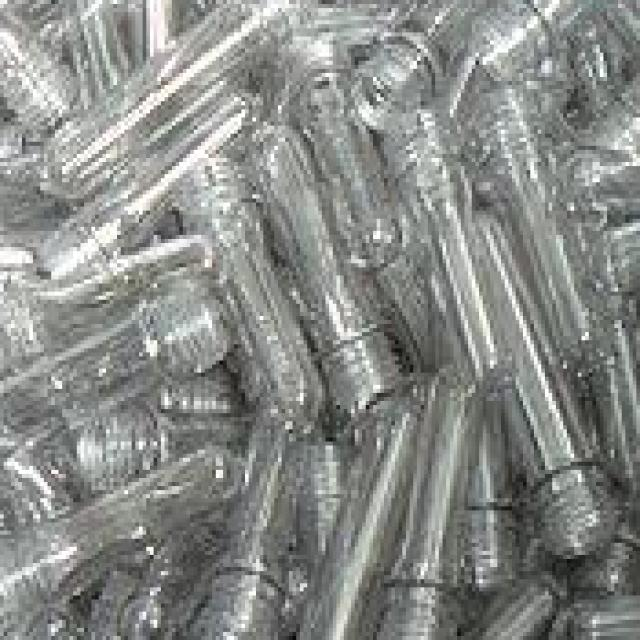organic: (13, 7, 632, 623)
